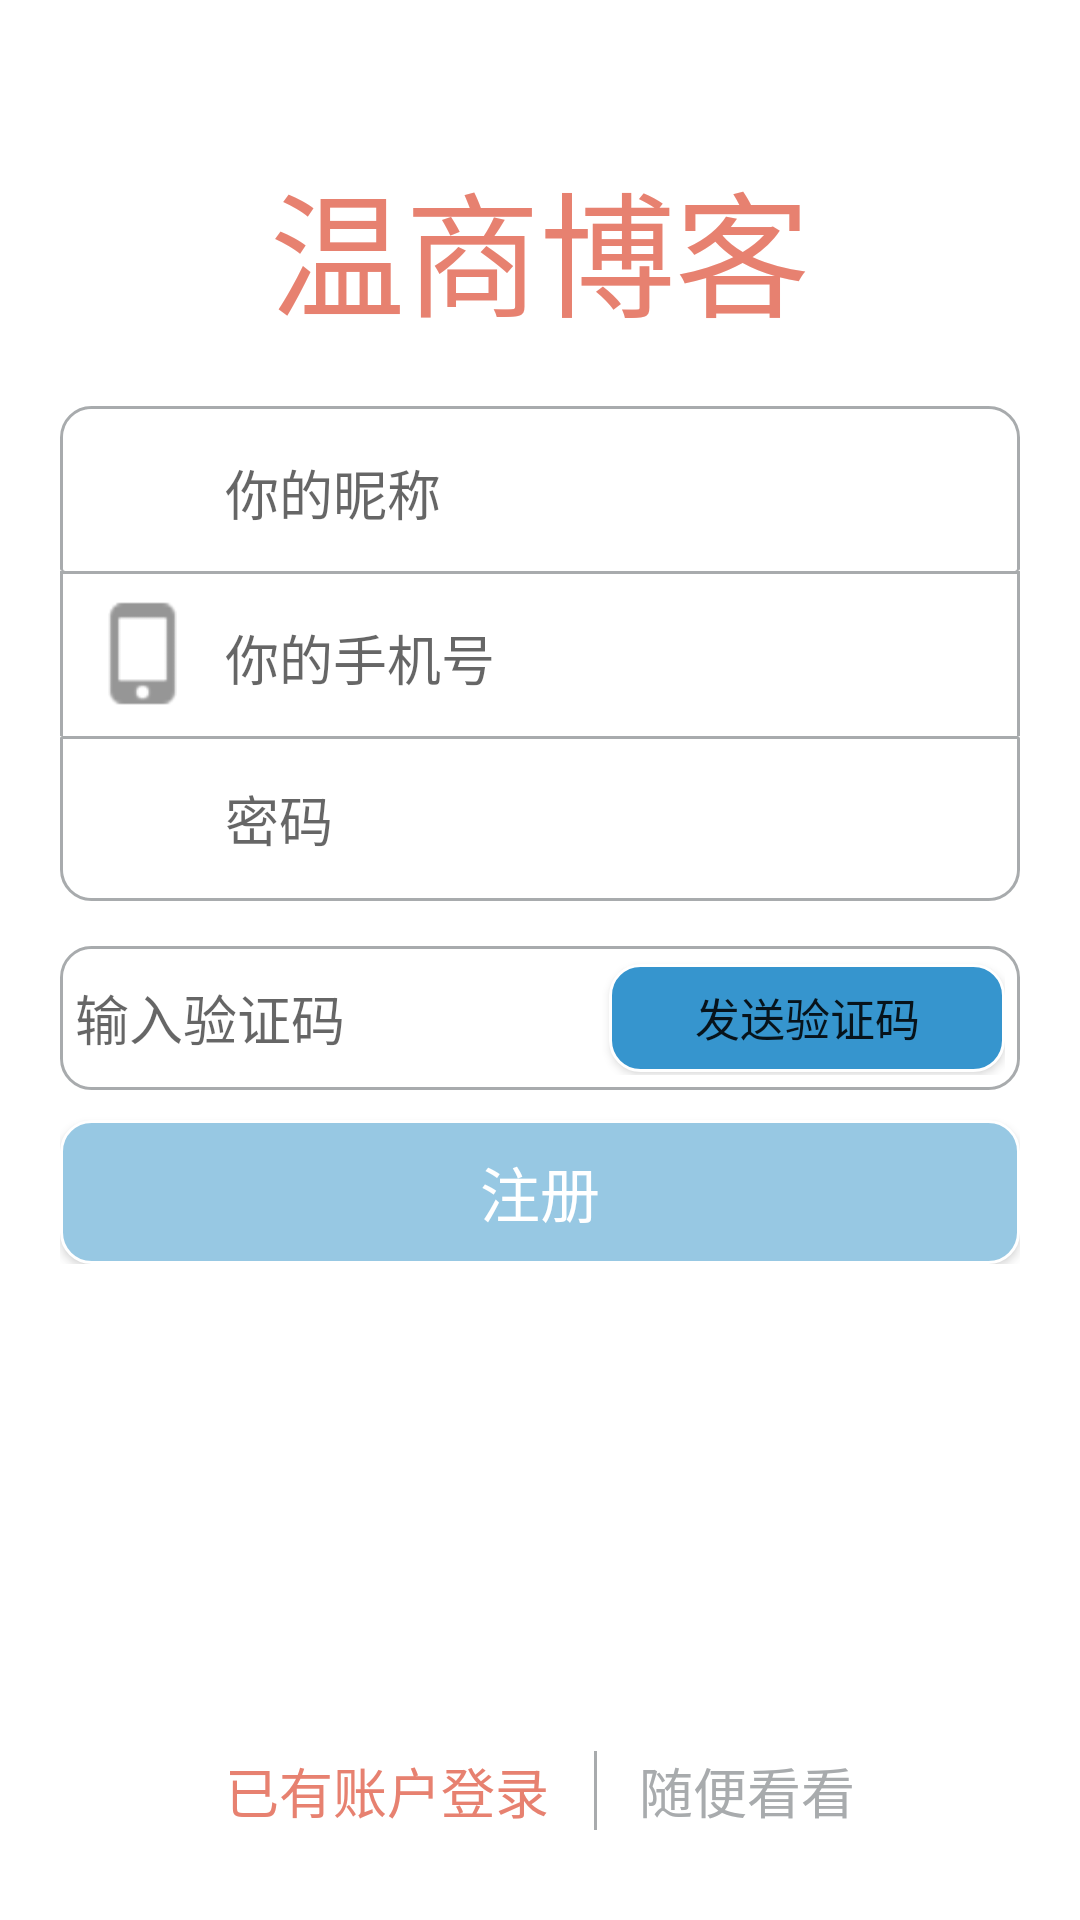

Screen size 1080*1920. Icon name, then its center in pixels as point (x, y):
phone: point (143, 653)
